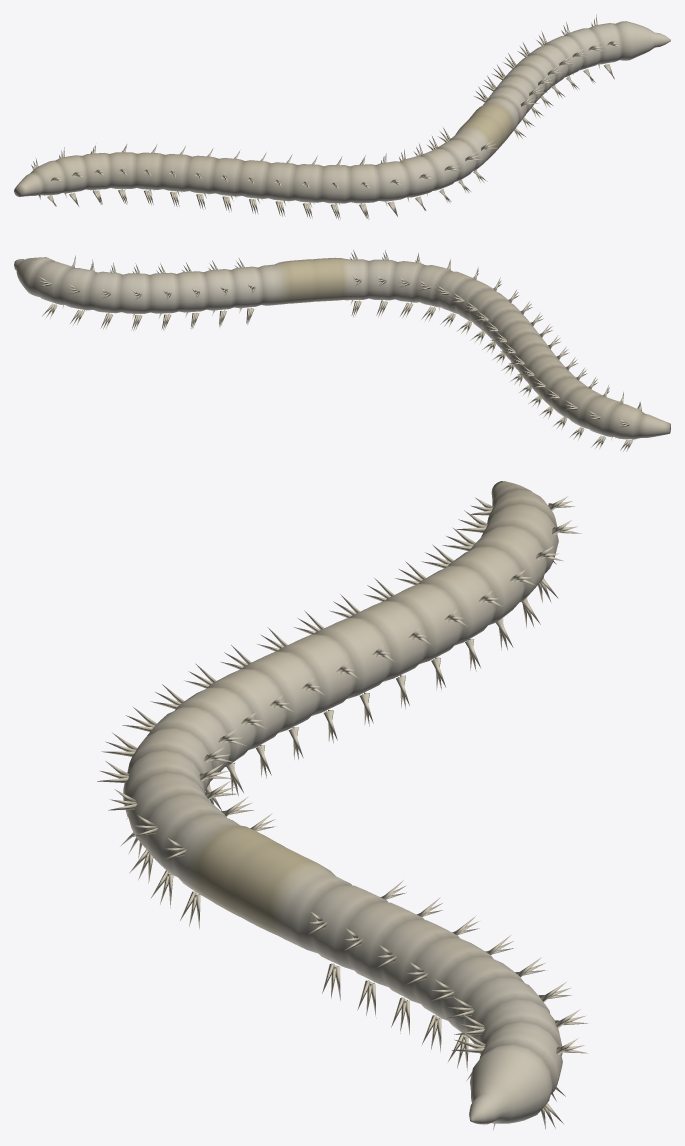
Rendered from potworm.glb.
3 views of the same model, one above another, from view 1: azimuth 30°, elevation 25°; view 2: azimuth 150°, elevation 25°; view 3: azimuth 270°, elevation 25° (orthographic). The views are drawn at different scales.
Visible parts, largest first — view 1: potworm; view 2: potworm; view 3: potworm.
Boxes of the visible parts, x1=… form: potworm: x1=14, y1=14, x2=670, y2=219; potworm: x1=14, y1=250, x2=670, y2=451; potworm: x1=97, y1=481, x2=588, y2=1130.
Size of the model in its own units: 0.8652 by 0.0661 by 0.2861.
